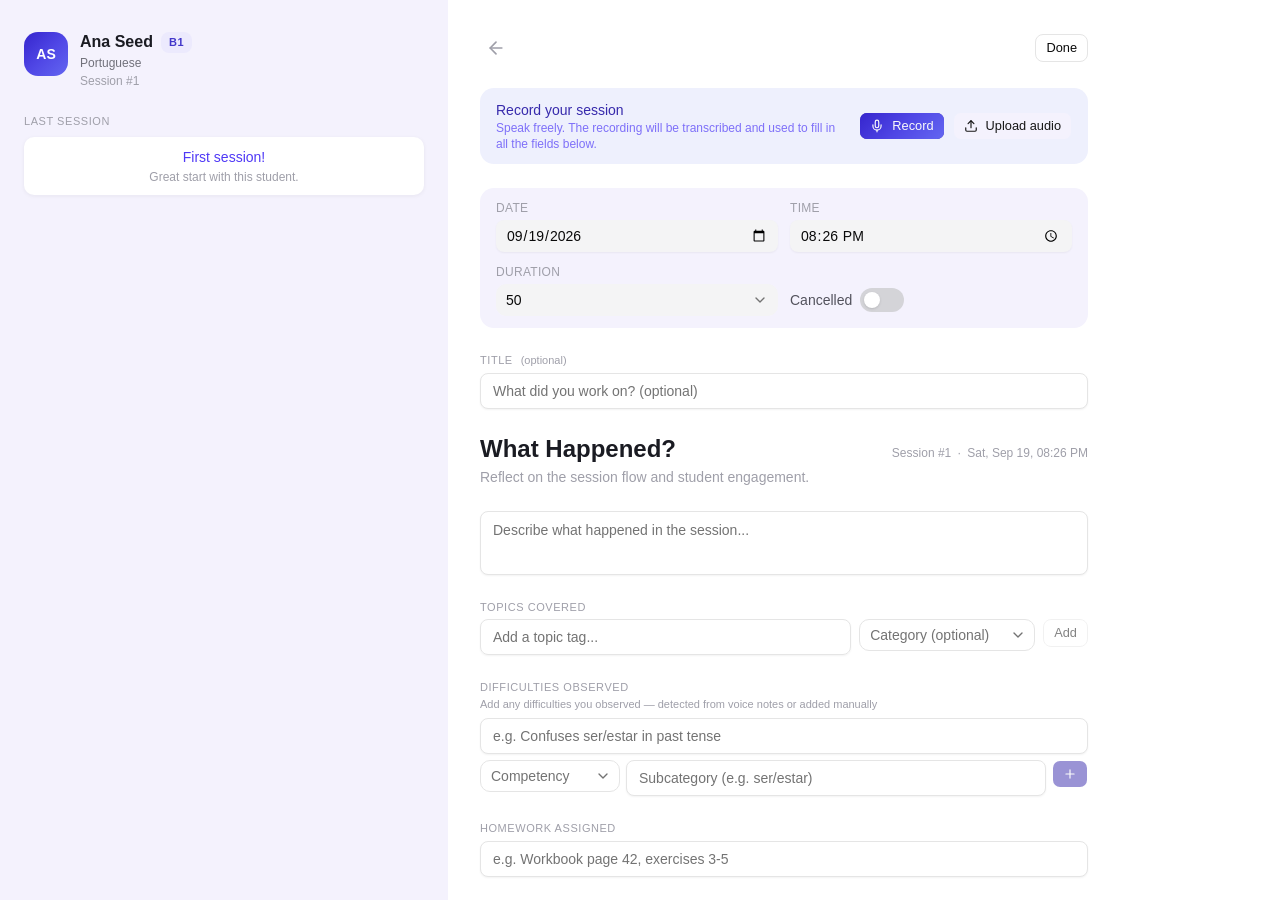
Test: LogSession › reveals custom duration input when "Other (min)" selected
Click the dropdown with test id "duration-select" at (514,300), box [496, 284, 778, 316]
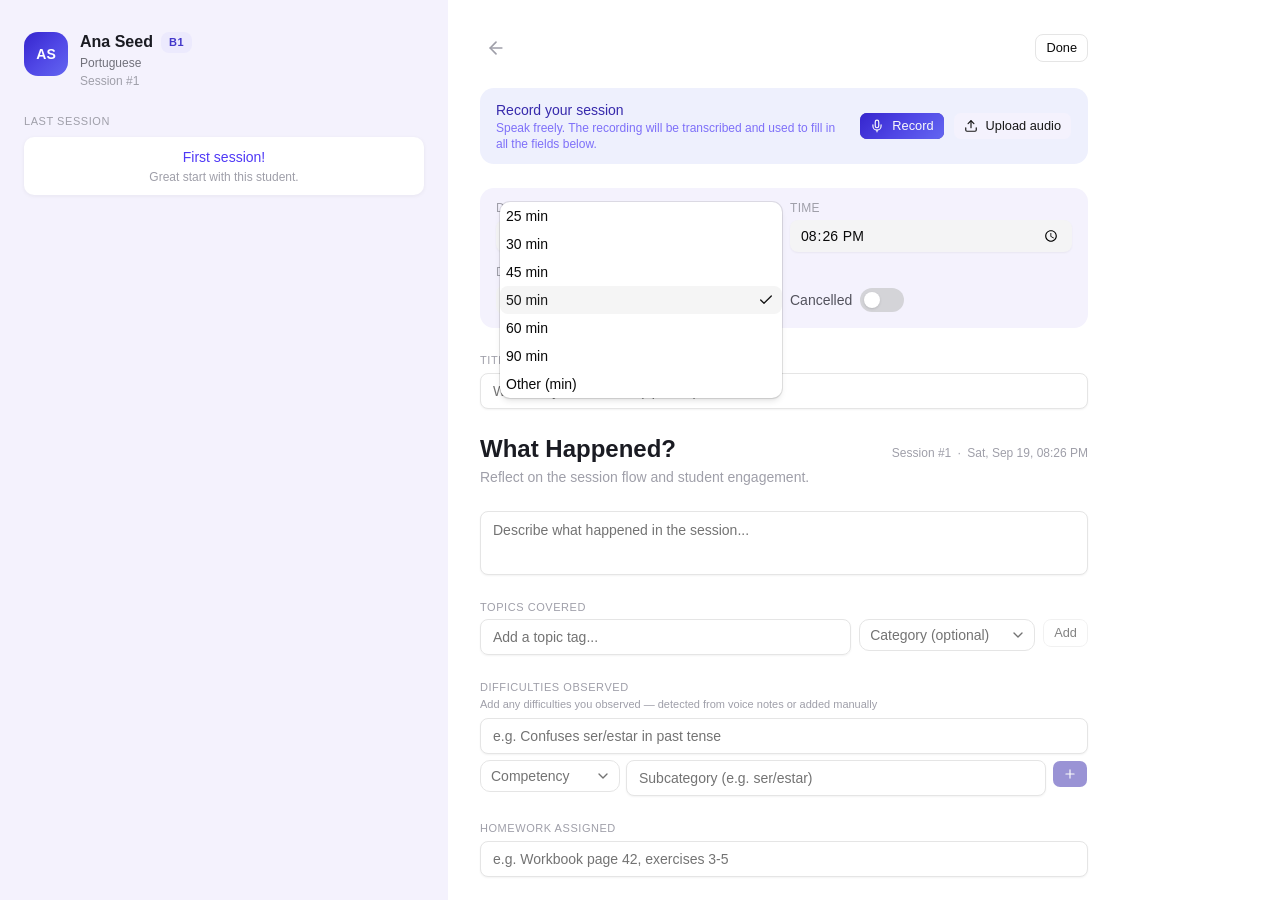
Click the option "Other (min)" at (541,384), box [506, 376, 577, 392]
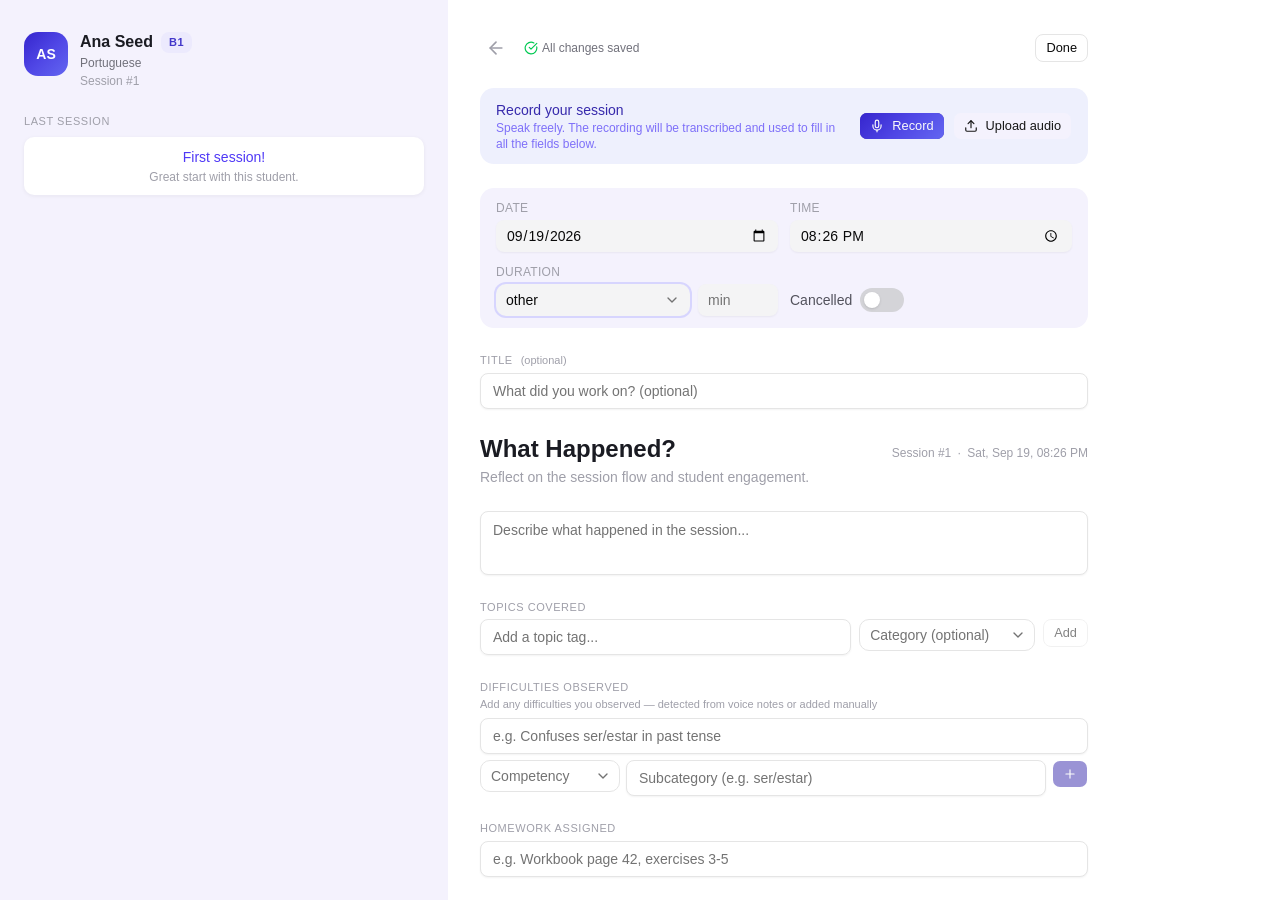
Now the number field with test id "duration-other" is shown, box [698, 284, 778, 316]
